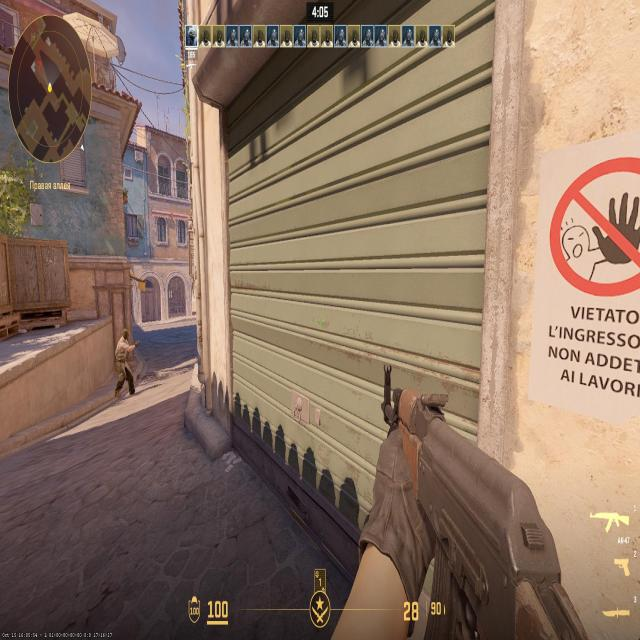T: (118, 327, 129, 384)
T_heat: (122, 334, 127, 341)
